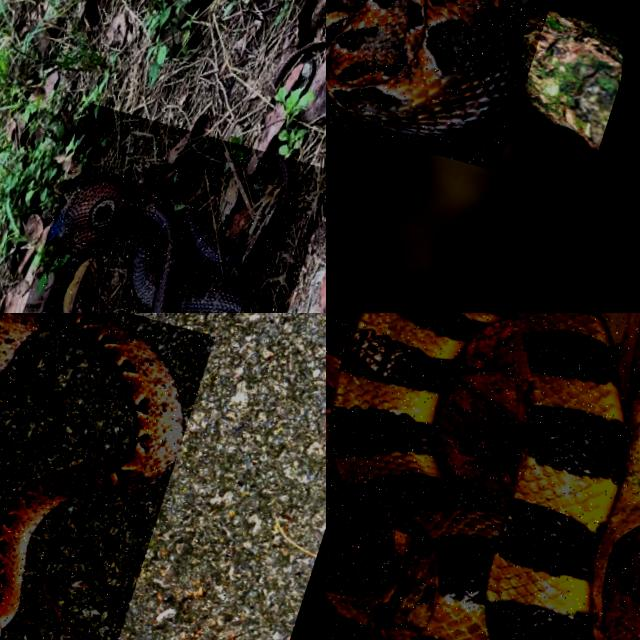Bungarus fasciatus: (330, 313, 625, 639)
Calloselasma rhodostoma: (0, 313, 183, 637), (326, 0, 543, 135)
Naja kaouthia: (49, 158, 297, 312)
